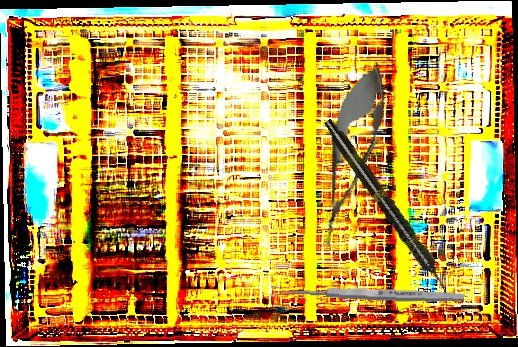Handpiece: (319, 115, 455, 298)
Micro Scissor: (302, 55, 399, 256)
Surgical Spoon: (270, 284, 465, 304)
